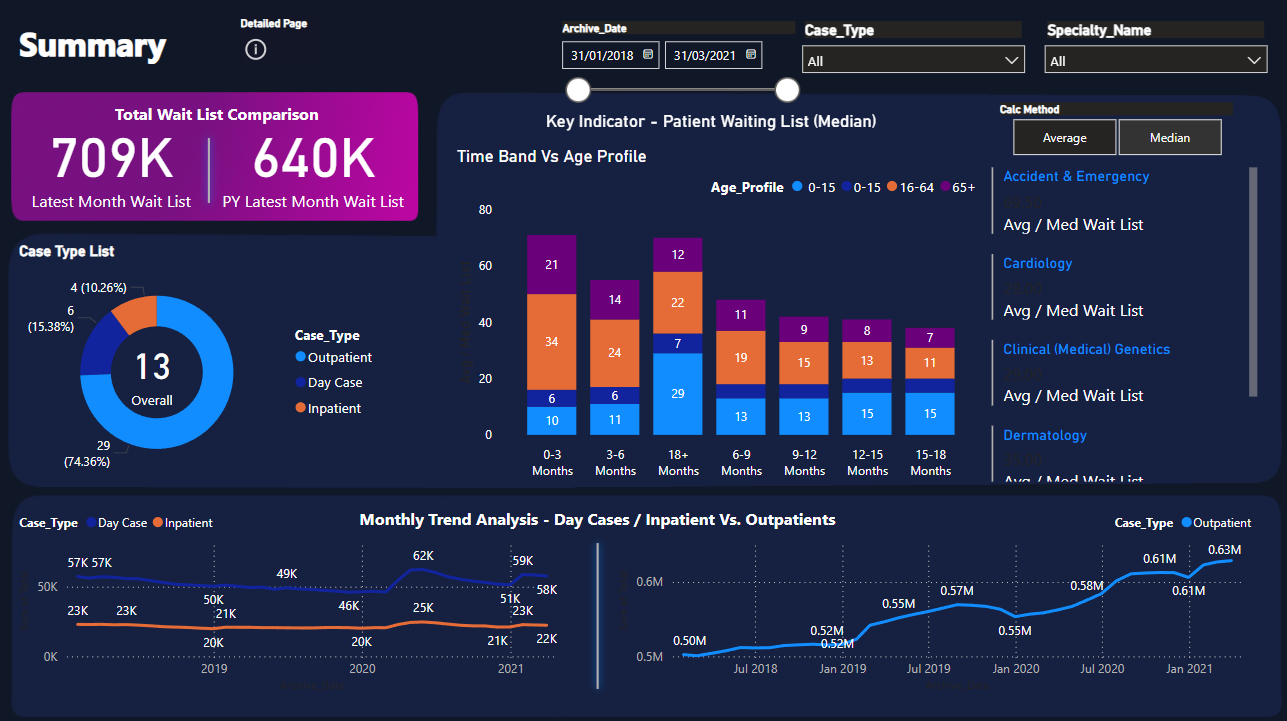

This screenshot's page, from the dashboard's own definition file:
{"tool":"powerbi","page":{"name":"Summary","canvas":[1280,720],"ordinal":0},"visuals":[{"type":"card","fields":{"Values":["All_Data.Latest Month Wait List"]},"box":[16,96,192,128],"z":0},{"type":"card","fields":{"Values":["All_Data.PY Latest Month Wait List"]},"box":[208,96,208,128],"z":1000},{"type":"slicer","fields":{"Values":["Table.Calc Method"]},"box":[976,96,256,64],"z":2000},{"type":"multiRowCard","fields":{"Values":["All_Data.Specialty_Name","All_Data.Avg / Med Wait List"]},"box":[976,160,272,320],"z":3000},{"type":"columnChart","title":"Time Band Vs Age Profile","fields":{"Y":["All_Data.Avg / Med Wait List"],"Category":["All_Data.Time_Bands"],"Series":["All_Data.Age_Profile"]},"box":[448,144,528,336],"z":4000},{"type":"donutChart","title":"Case Type List","fields":{"Category":["All_Data.Case_Type"],"Y":["All_Data.Avg / Med Wait List"]},"box":[16,240,368,240],"z":5000},{"type":"lineChart","fields":{"Category":["All_Data.Archive_Date"],"Y":["Sum(All_Data.Total)"],"Series":["All_Data.Case_Type"]},"box":[16,496,544,192],"z":6000},{"type":"lineChart","fields":{"Category":["All_Data.Archive_Date"],"Y":["Sum(All_Data.Total)"],"Series":["All_Data.Case_Type"]},"box":[608,496,640,192],"z":7000},{"type":"slicer","fields":{"Values":["All_Data.Archive_Date"]},"box":[544,16,256,96],"z":8000},{"type":"slicer","fields":{"Values":["All_Data.Case_Type"]},"box":[784,16,240,80],"z":9000},{"type":"slicer","fields":{"Values":["All_Data.Specialty_Name"]},"box":[1024,16,240,64],"z":10000},{"type":"textbox","box":[16,16,208,64],"z":11000},{"type":"card","fields":{"Values":["All_Data.Avg / Med Wait List"]},"box":[96,320,112,96],"z":12000},{"type":"shape","box":[96,128,224,80],"z":13000},{"type":"shape","box":[480,528,224,160],"z":14000},{"type":"textbox","box":[352,496,528,48],"z":15000},{"type":"card","fields":{"Values":["All_Data.Dynamic Title"]},"box":[496,80,416,80],"z":16000},{"type":"textbox","box":[48,96,336,32],"z":17000},{"type":"actionButton","title":"Detailed Page","box":[240,16,80,48],"z":18000}]}

Visuals, with their boxes in screenshot pixels (x1, y1, x2, y2), scaled from the page's 1280x720 canvas onto the 1287x721 screenshot:
card - All_Data.Latest Month Wait List: region(16, 96, 209, 224)
card - All_Data.PY Latest Month Wait List: region(209, 96, 418, 224)
slicer - Table.Calc Method: region(981, 96, 1239, 160)
multiRowCard - All_Data.Specialty_Name x All_Data.Avg / Med Wait List: region(981, 160, 1255, 481)
"Time Band Vs Age Profile" columnChart: region(450, 144, 981, 481)
"Case Type List" donutChart: region(16, 240, 386, 481)
lineChart - All_Data.Archive_Date x Sum(All_Data.Total): region(16, 497, 563, 689)
lineChart - All_Data.Archive_Date x Sum(All_Data.Total): region(611, 497, 1255, 689)
slicer - All_Data.Archive_Date: region(547, 16, 804, 112)
slicer - All_Data.Case_Type: region(788, 16, 1030, 96)
slicer - All_Data.Specialty_Name: region(1030, 16, 1271, 80)
textbox: region(16, 16, 225, 80)
card - All_Data.Avg / Med Wait List: region(97, 320, 209, 417)
shape: region(97, 128, 322, 208)
shape: region(483, 529, 708, 689)
textbox: region(354, 497, 885, 545)
card - All_Data.Dynamic Title: region(499, 80, 917, 160)
textbox: region(48, 96, 386, 128)
"Detailed Page" actionButton: region(241, 16, 322, 64)
